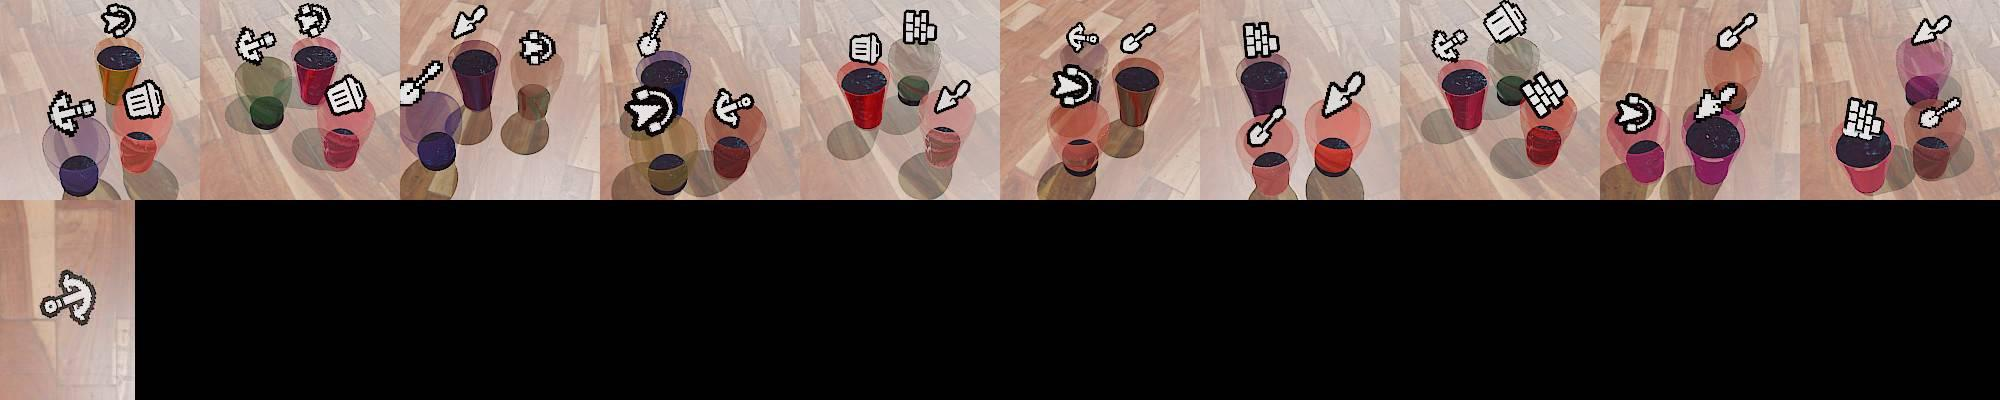icon: (38, 268, 98, 326), (622, 84, 679, 136), (1520, 69, 1570, 118), (46, 88, 96, 136), (1048, 62, 1097, 110), (1320, 70, 1367, 117), (398, 59, 444, 107), (712, 85, 758, 129), (1482, 0, 1528, 43), (324, 71, 367, 116), (122, 78, 167, 121), (1842, 96, 1884, 140), (1614, 92, 1656, 134), (1691, 84, 1739, 121), (1717, 10, 1758, 52), (1246, 103, 1286, 146), (635, 10, 671, 57), (931, 76, 973, 116), (235, 25, 276, 65), (1242, 19, 1282, 60), (1917, 94, 1962, 130), (1909, 14, 1953, 47), (450, 3, 489, 39), (518, 28, 556, 65), (293, 3, 332, 38), (902, 8, 937, 46), (99, 3, 136, 38), (1120, 22, 1157, 56), (1431, 28, 1467, 62), (1065, 19, 1101, 54), (848, 32, 881, 66)
